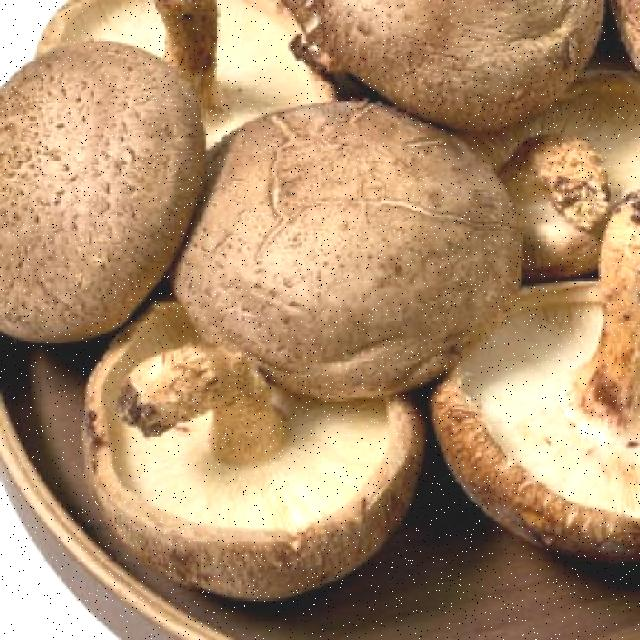Mushroom: (68, 277, 420, 629), (434, 217, 638, 583)
